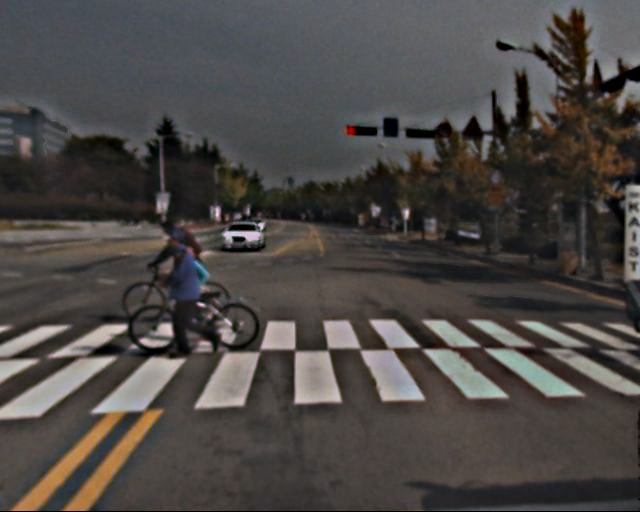person: (163, 232, 218, 356), (155, 217, 206, 336), (174, 241, 222, 337)
